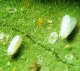whitefly: (59, 15, 76, 40)
